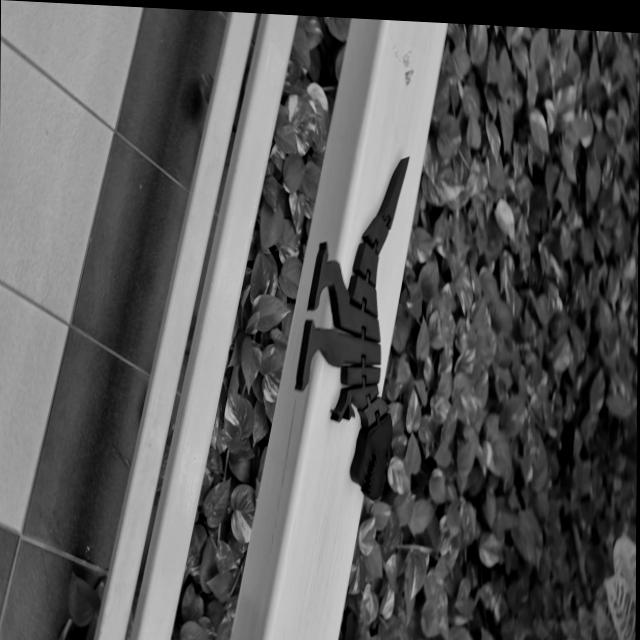dino: (291, 150, 410, 504)
